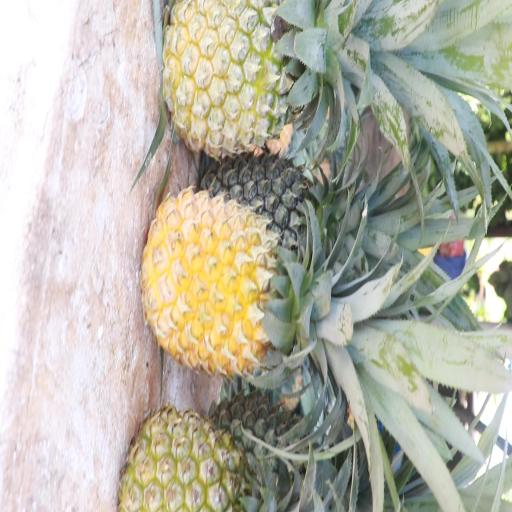------------------------------: (164, 0, 331, 150), (125, 414, 273, 512)
Pineapple - v8 v1: (144, 191, 309, 374)
